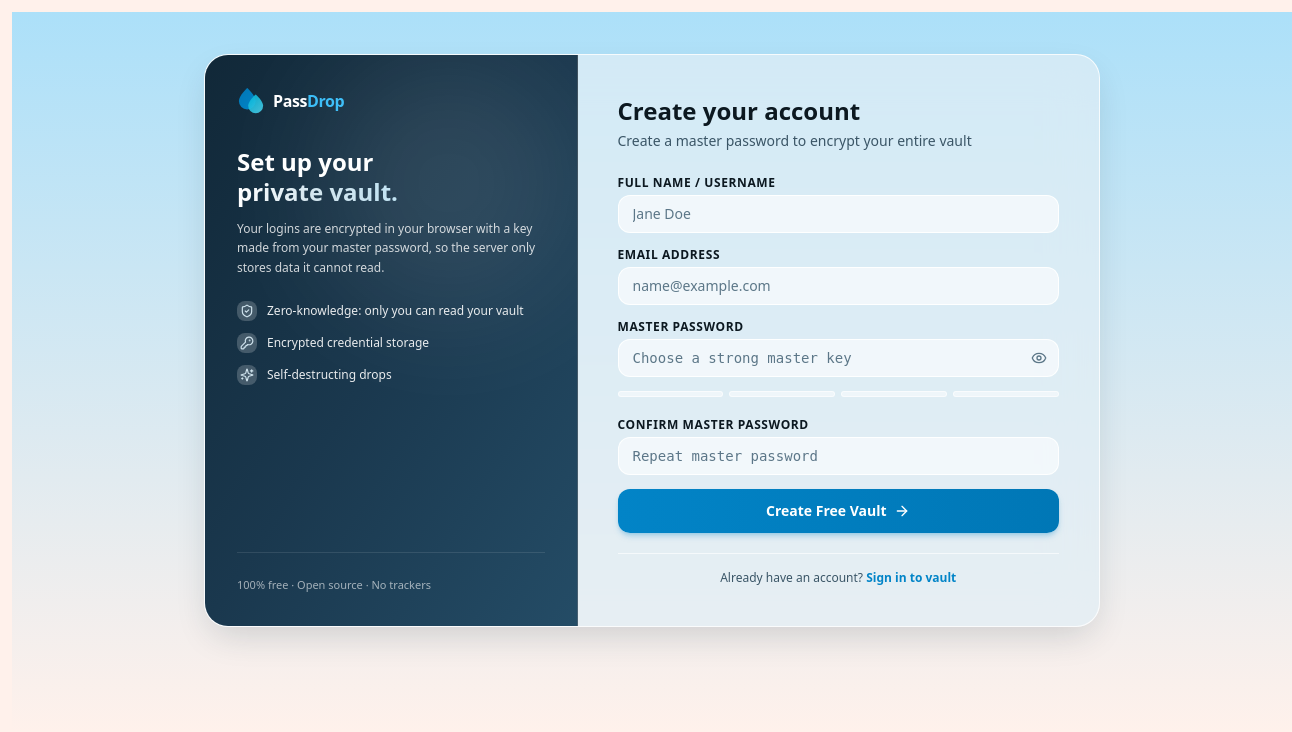
Test: Signup › signs in and goes straight to the vault, without interrupting the water; the recovery key is held for the Account page
Type "Jane" into the field labelled "Full Name / Username".
click(838, 214); type("Jane")  # box [618,194,1059,232]
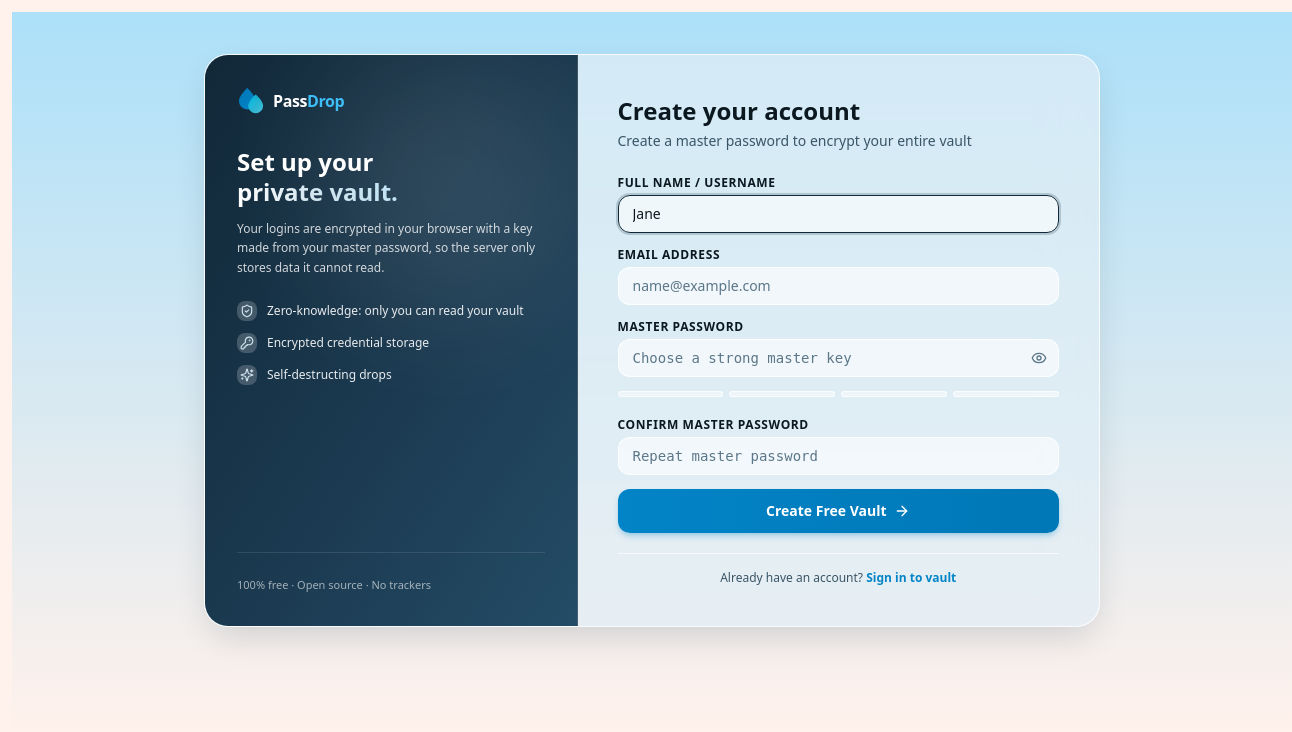
Type "jane@example.com" into the field labelled "Email address".
click(838, 286); type("jane@example.com")  # box [618,266,1059,304]
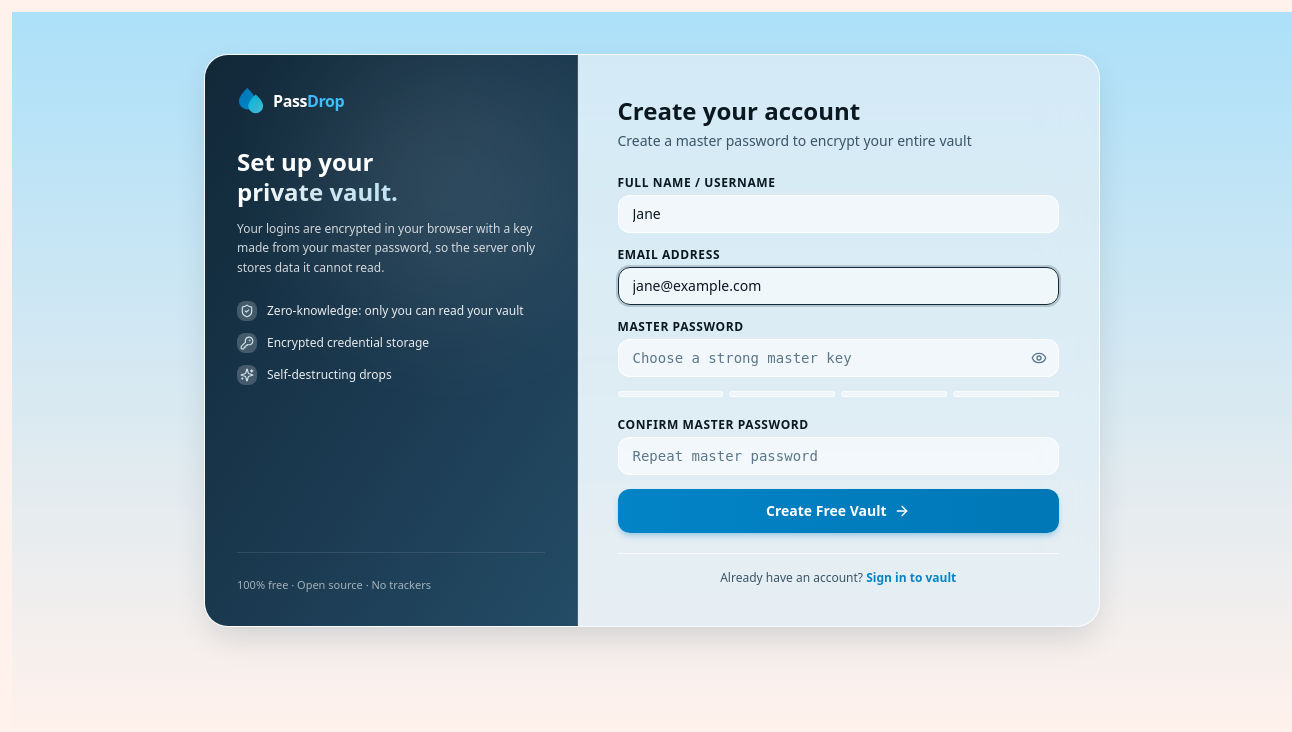
Type "a-good-master-pw-1!" into the password field labelled "Master Password".
click(838, 358); type("a-good-master-pw-1!")  # box [618,338,1059,376]
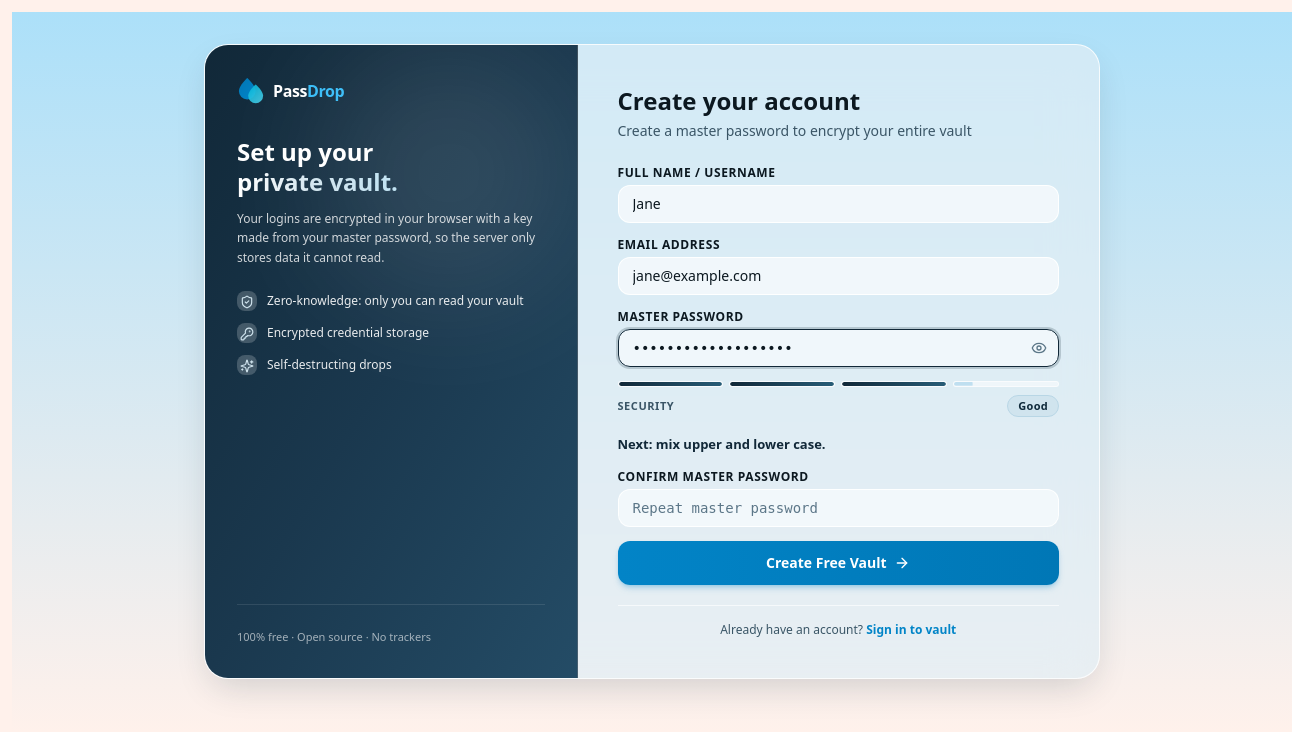
Type "a-good-master-pw-1!" into the password field labelled "Confirm Master Password".
click(838, 508); type("a-good-master-pw-1!")  # box [618,488,1059,526]
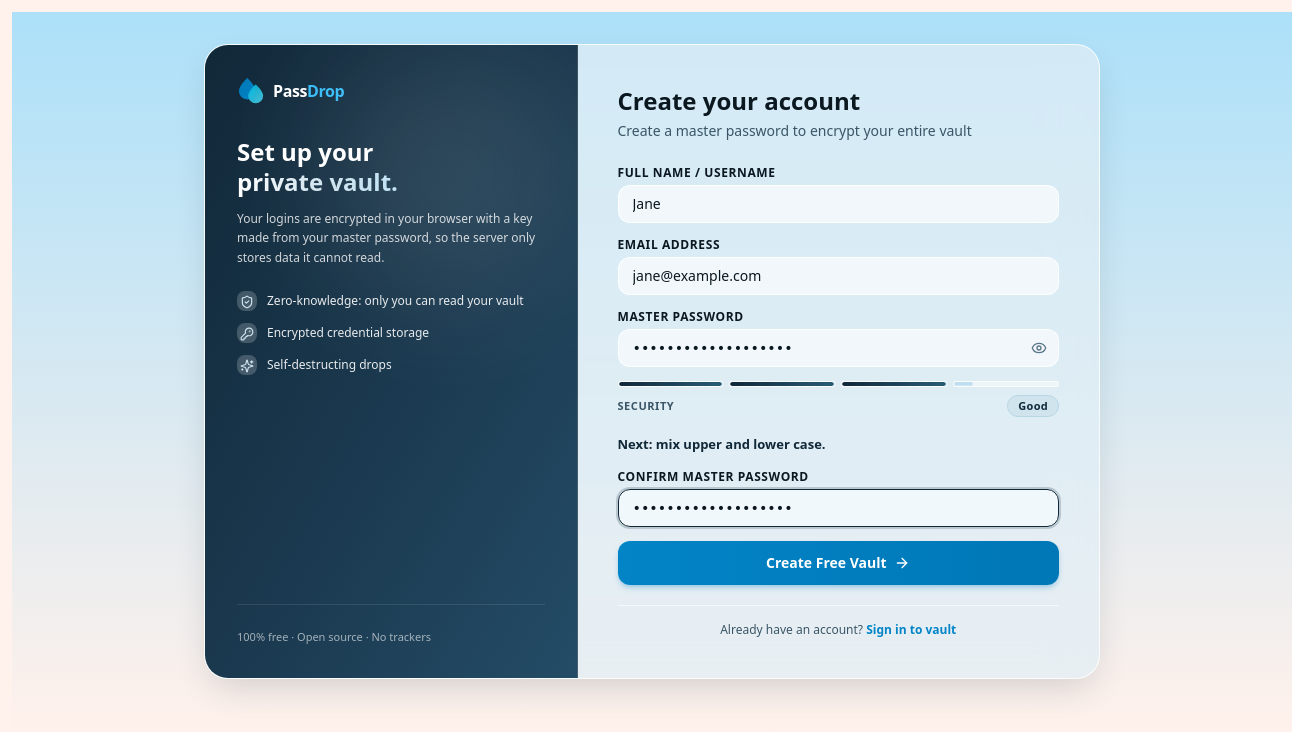
Click the button "Create Free Vault".
click(838, 562)  # box [618,540,1059,584]
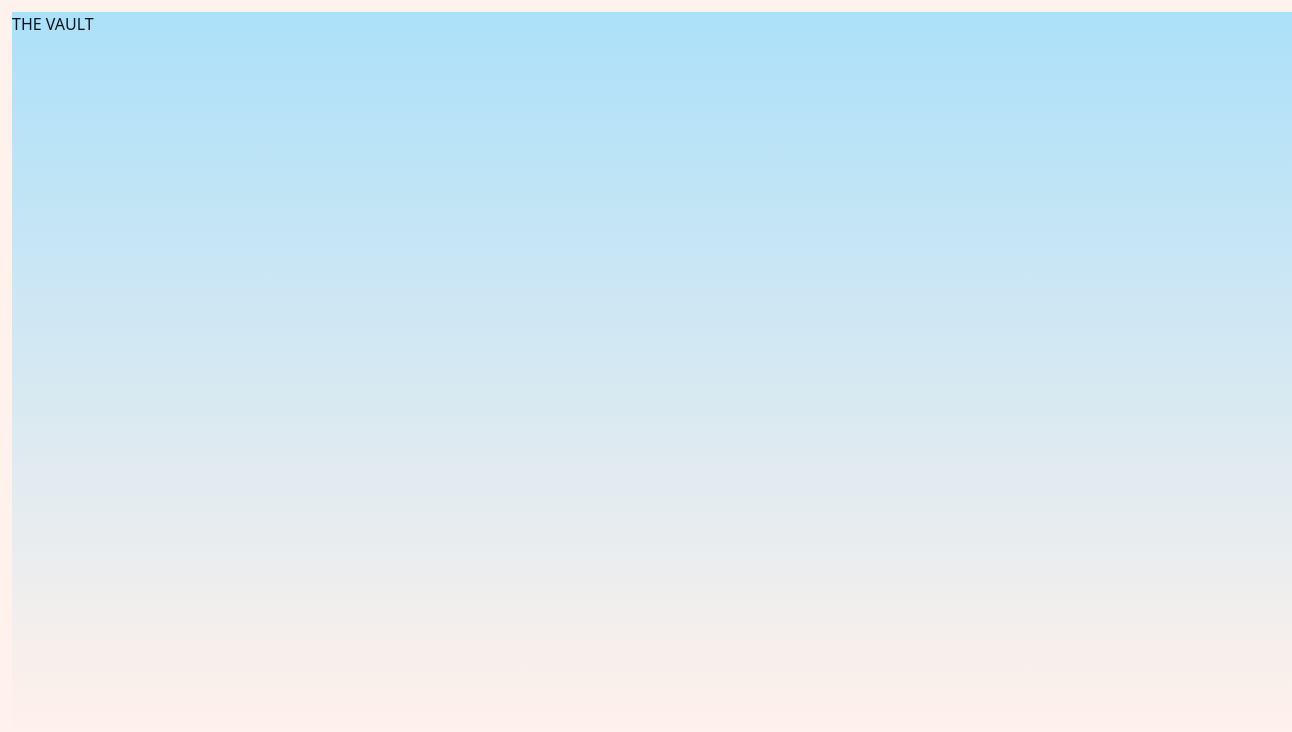
Now the text "THE VAULT" is shown, box [12,13,94,35]
